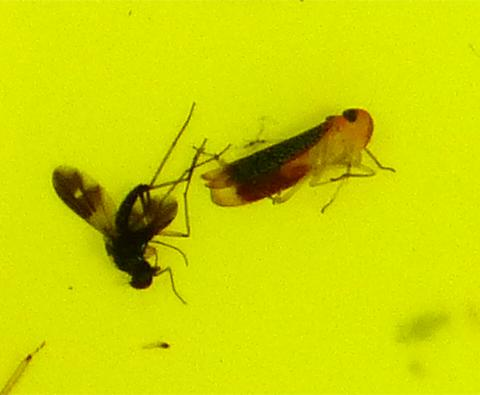Brachycera: (100, 173, 159, 295)
Hemiptera: (199, 100, 380, 216)
